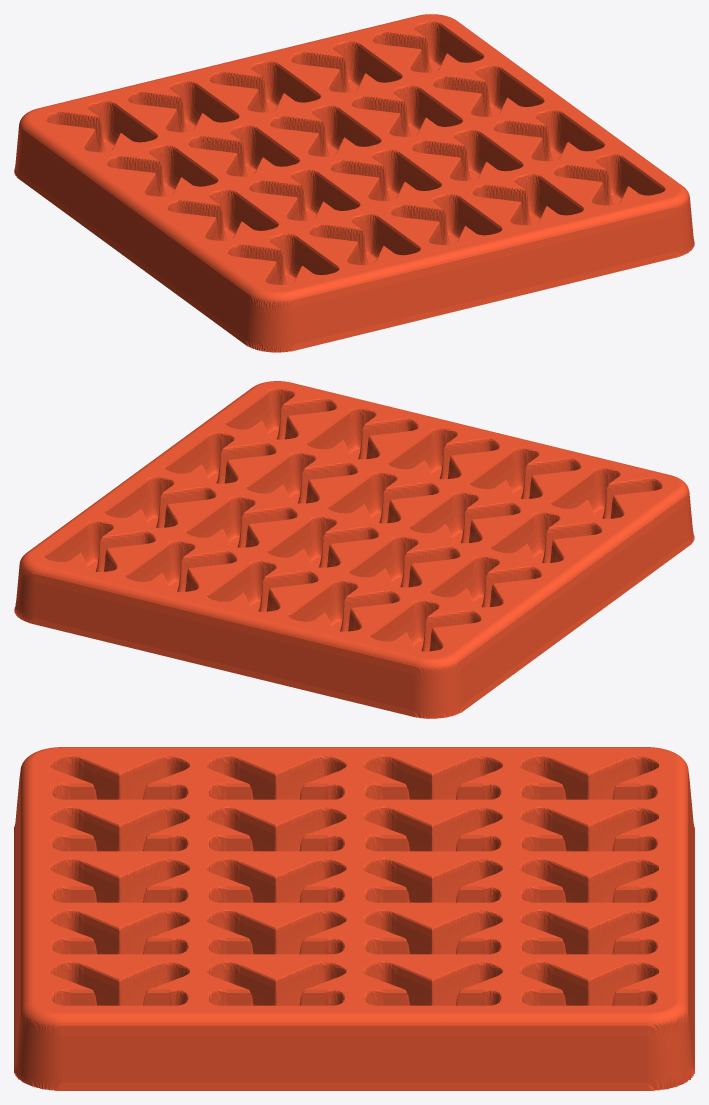
The model's file is mold.glb.
3 renders of one model, top to bottom at view 1: azimuth 30°, elevation 25°; view 2: azimuth 150°, elevation 25°; view 3: azimuth 270°, elevation 25°, orthographic. The views are drawn at different scales.
Parts seen in each view (by area): view 1: geometry_0; view 2: geometry_0; view 3: geometry_0.
Boxes of the visible parts, bbox=[...] form: geometry_0: bbox=[14, 14, 694, 352]; geometry_0: bbox=[14, 381, 694, 718]; geometry_0: bbox=[14, 747, 694, 1090].
Size of the model in its own units: 0.1246 by 0.0145 by 0.1278.
